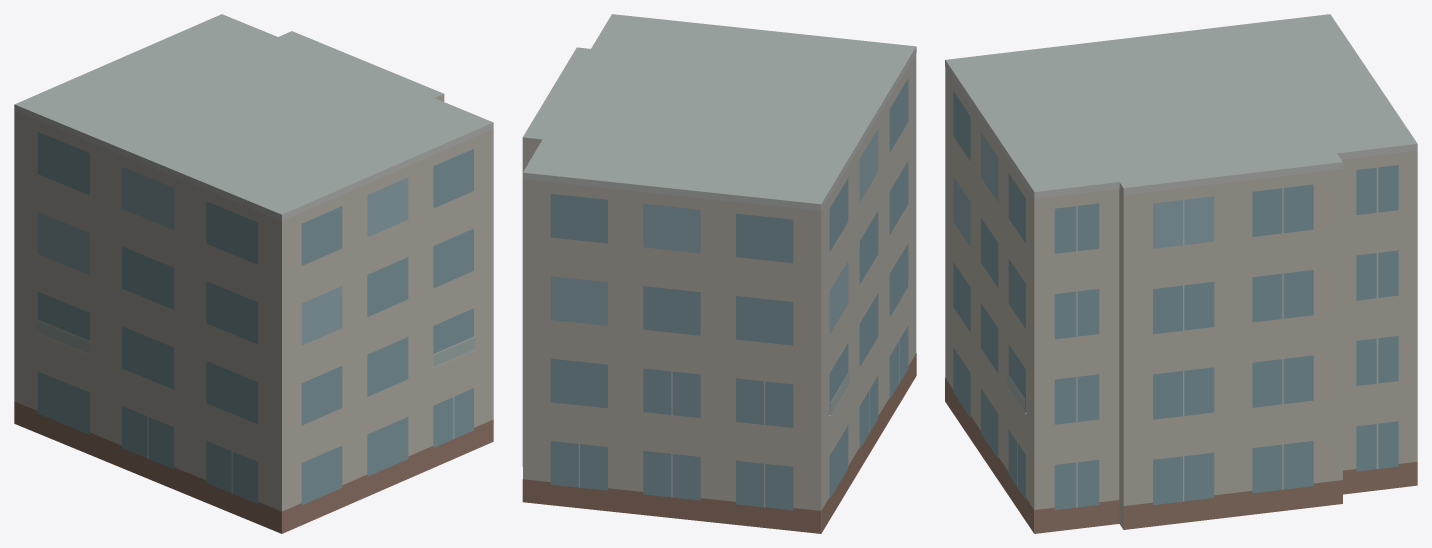
Rendered from survey-upis-33004098.glb.
3 views of the same model, side by side, from view 1: azimuth 30°, elevation 25°; view 2: azimuth 150°, elevation 25°; view 3: azimuth 270°, elevation 25° (orthographic). The views are drawn at different scales.
Visible parts, largest first — view 1: survey-upis-33004098.tmp; view 2: survey-upis-33004098.tmp; view 3: survey-upis-33004098.tmp.
Boxes of the visible parts, box(x1,y1,x2,y2) form: survey-upis-33004098.tmp: box(14, 14, 493, 533); survey-upis-33004098.tmp: box(522, 14, 916, 533); survey-upis-33004098.tmp: box(945, 14, 1417, 533).
Size of the model in its own units: 13.59 by 12.15 by 15.23.
